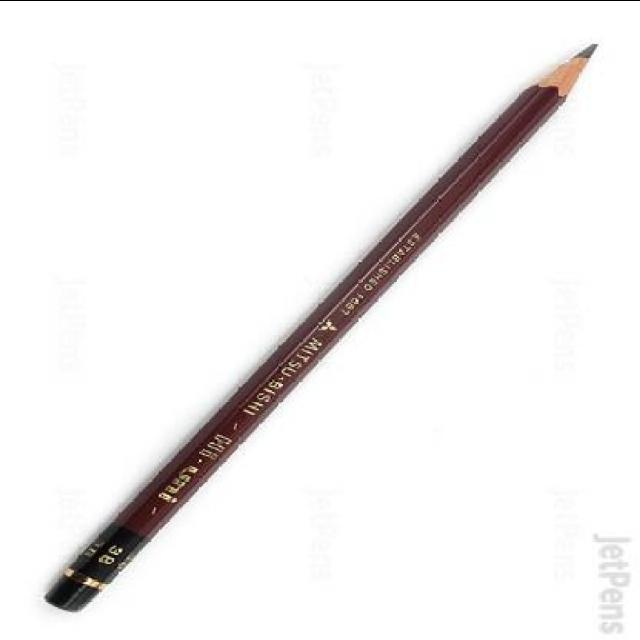pencil: (522, 36, 606, 108)
